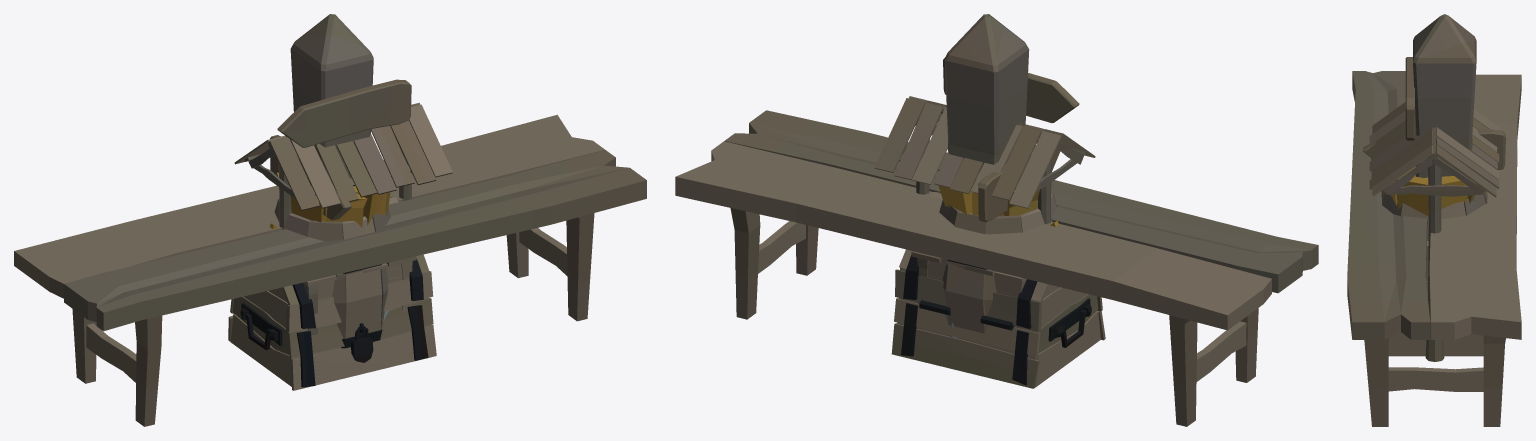
The model's file is craftpix-medieval-props.glb.
The picture shows the model from 3 angles, left to right: view 1: azimuth 30°, elevation 25°; view 2: azimuth 150°, elevation 25°; view 3: azimuth 270°, elevation 25°; orthographic projection. The views are drawn at different scales.
Parts seen in each view (by area): view 1: Prop_Bench, Prop_Chest, Prop_Signpost, Prop_Well, Prop_Barrel, Prop_Haystack, Prop_Box; view 2: Prop_Bench, Prop_Chest, Prop_Signpost, Prop_Well, Prop_Barrel, Prop_Box, Prop_Haystack; view 3: Prop_Bench, Prop_Well, Prop_Signpost, Prop_Chest, Prop_Haystack, Prop_Barrel.
Part boxes in pixels (box(x1,y1,x2,y2)): Prop_Bench: box(14, 114, 646, 426); Prop_Chest: box(228, 254, 436, 390); Prop_Signpost: box(270, 14, 411, 220); Prop_Well: box(234, 102, 452, 341); Prop_Barrel: box(274, 198, 390, 348); Prop_Haystack: box(269, 165, 390, 229); Prop_Box: box(303, 256, 416, 335); Prop_Bench: box(675, 110, 1318, 426); Prop_Chest: box(891, 249, 1105, 388); Prop_Signpost: box(943, 14, 1079, 222); Prop_Well: box(874, 96, 1095, 338); Prop_Barrel: box(939, 192, 1056, 333); Prop_Box: box(911, 251, 1026, 328); Prop_Haystack: box(938, 158, 1058, 226); Prop_Bench: box(1347, 71, 1521, 426); Prop_Well: box(1369, 102, 1499, 361); Prop_Signpost: box(1363, 14, 1505, 200); Prop_Chest: box(1388, 241, 1483, 356); Prop_Haystack: box(1383, 167, 1474, 215); Prop_Barrel: box(1381, 190, 1487, 221).
Size of the model in its own units: 3.81 by 2.2 by 1.12.
Materials: 1 (1 with a texture image).
